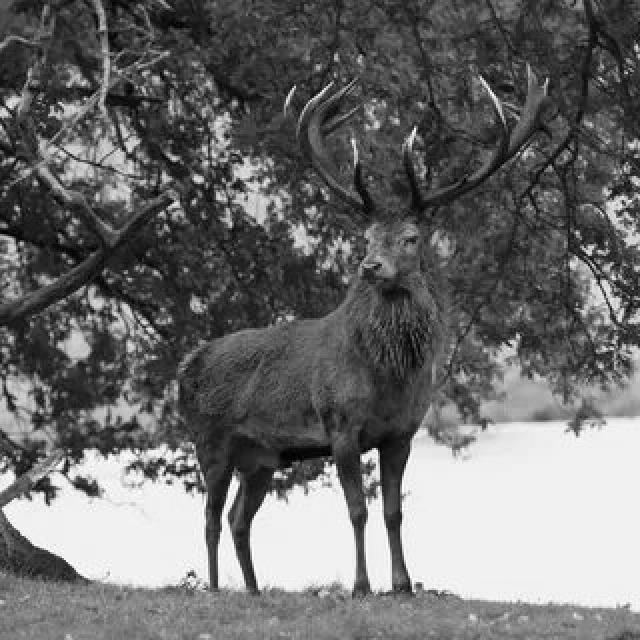Deer: (77, 46, 540, 556)
